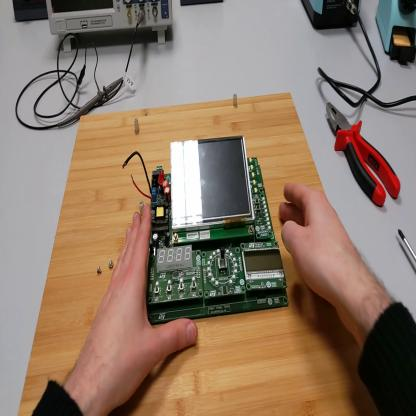hand: (85, 198, 197, 405), (279, 179, 364, 315)
low voltage board: (122, 132, 290, 328)
oscilloscope: (45, 3, 175, 54)
oscilloscope probe tip: (56, 76, 123, 127)
pliers: (327, 105, 401, 211)
screwdriver-: (400, 229, 416, 261)
socket: (12, 1, 49, 26)
welder base: (376, 1, 416, 70)
welder station: (302, 2, 362, 35)
working area: (18, 109, 381, 414)
